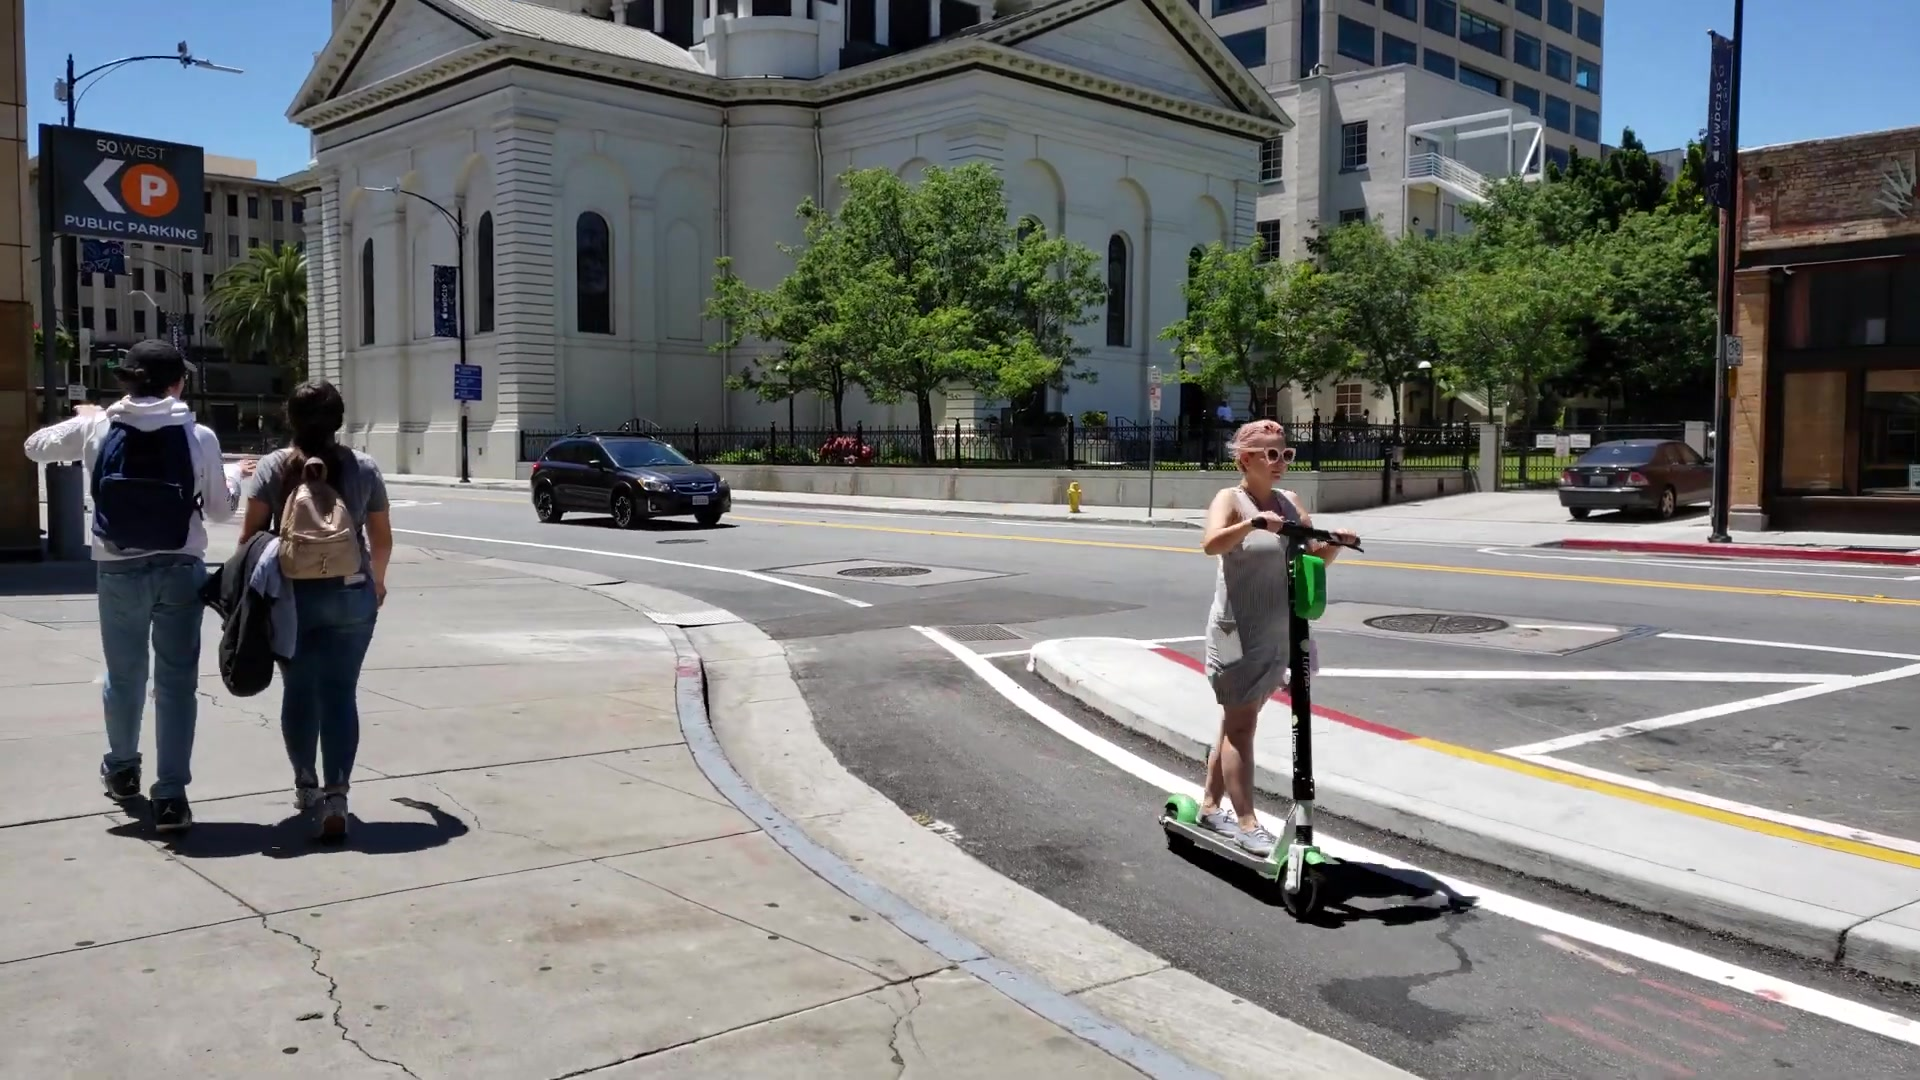vehicle_toward: (531, 436, 732, 535)
